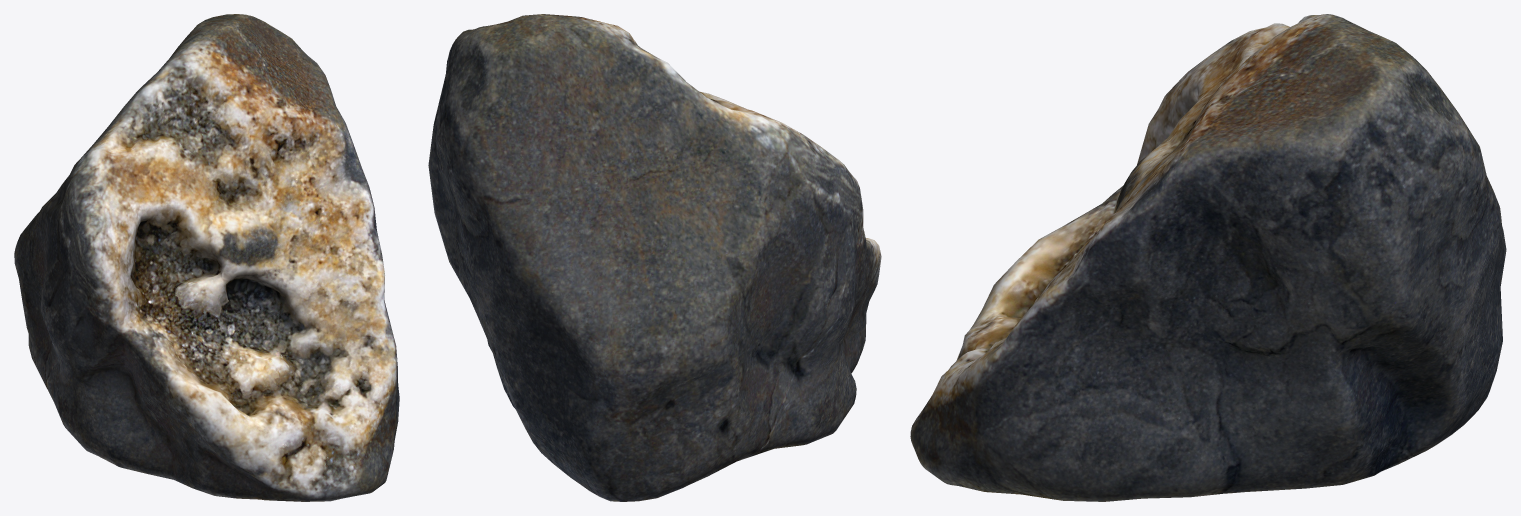
The model's file is stone_with_quartz.gltf.
3 renders of one model, left to right at view 1: azimuth 30°, elevation 25°; view 2: azimuth 150°, elevation 25°; view 3: azimuth 270°, elevation 25°, orthographic. The views are drawn at different scales.
Parts seen in each view (by area): view 1: stone_with_quartz; view 2: stone_with_quartz; view 3: stone_with_quartz.
Boxes of the visible parts, left/top/right/bottom form: stone_with_quartz: left=14, top=14, right=399, bottom=501; stone_with_quartz: left=428, top=14, right=881, bottom=501; stone_with_quartz: left=910, top=14, right=1506, bottom=501.
Size of the model in its own units: 17.72 by 20 by 23.88.
1 material, 1 textured.
